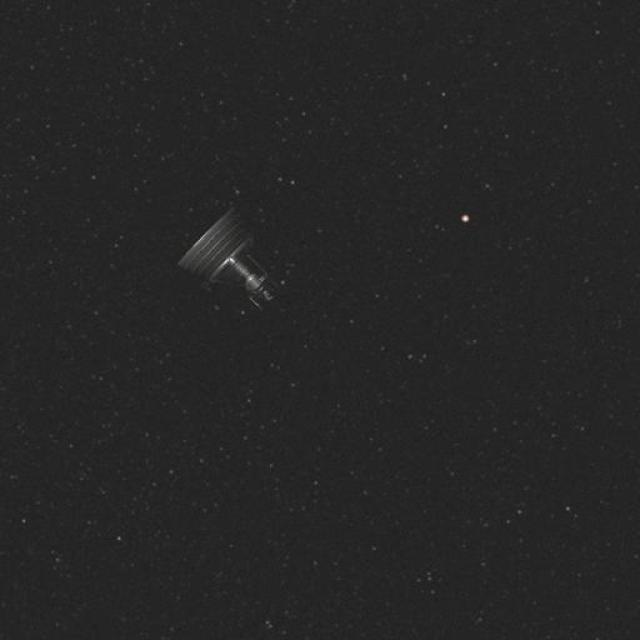debris: (168, 189, 298, 328)
